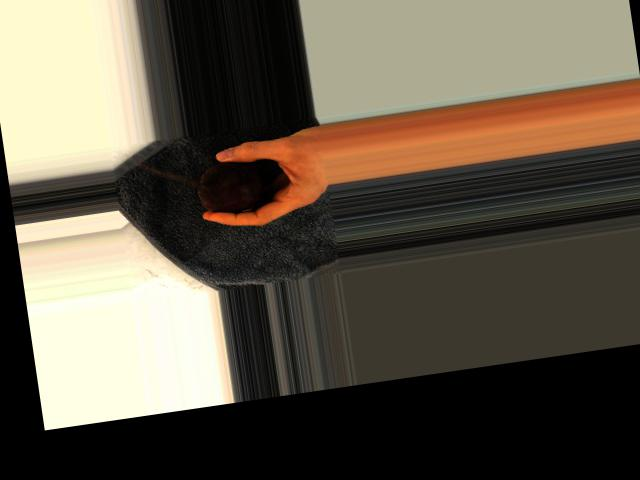beet: (194, 156, 266, 217)
